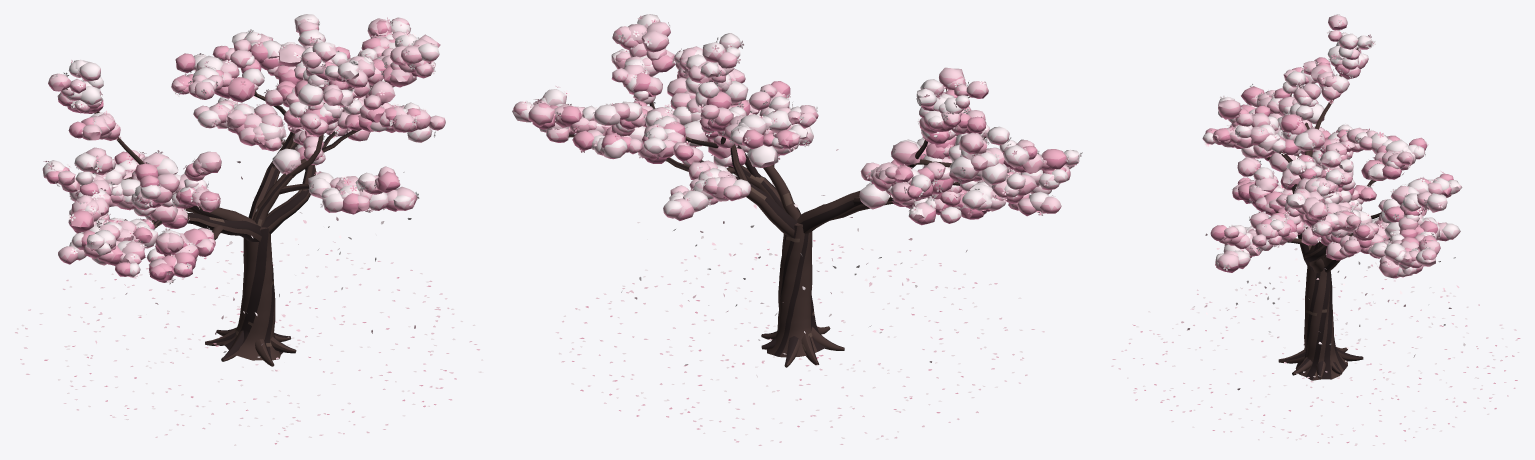
File: HEX_Sakura_Tree.fbx
3 views of the same model, side by side, from view 1: azimuth 30°, elevation 25°; view 2: azimuth 150°, elevation 25°; view 3: azimuth 270°, elevation 25° (orthographic). The views are drawn at different scales.
Parts seen in each view (by area): view 1: Canopy_01, Canopy_04, Canopy_07, Canopy_02, Canopy_05, Branches, Trunk, Canopy_09, Canopy_03, Canopy_06, Petals_Ground, Canopy_08; view 2: Canopy_05, Canopy_01, Canopy_07, Canopy_02, Canopy_09, Trunk, Branches, Canopy_04, Canopy_06, Petals_Ground, Canopy_08, Canopy_03; view 3: Canopy_01, Canopy_05, Canopy_04, Trunk, Canopy_09, Canopy_02, Canopy_06, Canopy_07, Petals_Ground, Branches, Canopy_03, Canopy_08.
Part boxes in pixels (x1,y1,x2,y2): Canopy_01: (42, 124, 221, 282); Canopy_04: (272, 34, 445, 210); Canopy_07: (193, 29, 295, 151); Canopy_02: (58, 150, 213, 284); Canopy_05: (264, 14, 435, 143); Branches: (66, 80, 386, 277); Trunk: (205, 227, 296, 366); Canopy_09: (48, 59, 147, 172); Canopy_03: (308, 166, 414, 214); Canopy_06: (278, 31, 407, 160); Petals_Ground: (15, 242, 483, 445); Canopy_08: (171, 53, 224, 99); Canopy_05: (512, 42, 741, 163); Canopy_01: (889, 67, 1069, 225); Canopy_07: (642, 104, 769, 220); Canopy_02: (860, 86, 1082, 223); Canopy_09: (859, 79, 988, 209); Trunk: (761, 223, 844, 367); Branches: (568, 75, 1068, 237); Canopy_04: (612, 14, 790, 167); Canopy_06: (568, 51, 748, 167); Petals_Ground: (555, 240, 1044, 445); Canopy_08: (742, 105, 818, 150); Canopy_03: (759, 81, 813, 153); Canopy_01: (1212, 61, 1324, 215); Canopy_05: (1311, 148, 1447, 274); Canopy_04: (1217, 157, 1330, 272); Trunk: (1278, 264, 1363, 380); Canopy_09: (1310, 14, 1375, 177); Canopy_02: (1202, 82, 1325, 211); Canopy_06: (1317, 159, 1417, 278); Canopy_07: (1361, 139, 1462, 241); Petals_Ground: (1111, 275, 1520, 445); Branches: (1214, 48, 1390, 273); Canopy_03: (1210, 225, 1262, 268); Canopy_08: (1346, 127, 1428, 153).
Size of the model in its own units: 38.14 by 26.25 by 35.24.
1 material, 1 textured.
